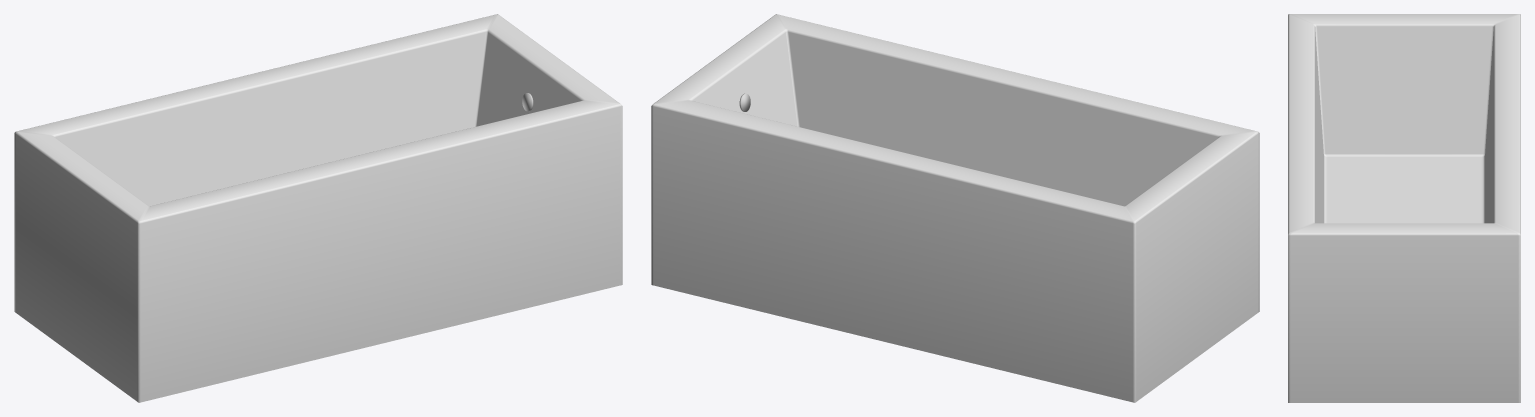
File: BathTub02.fbx
The picture shows the model from 3 angles, left to right: view 1: azimuth 30°, elevation 25°; view 2: azimuth 150°, elevation 25°; view 3: azimuth 270°, elevation 25°; orthographic projection. The views are drawn at different scales.
Parts seen in each view (by area): view 1: Bathtub02; view 2: Bathtub02; view 3: Bathtub02.
Boxes of the visible parts, x1=… form: Bathtub02: x1=14, y1=14, x2=622, y2=402; Bathtub02: x1=651, y1=14, x2=1259, y2=402; Bathtub02: x1=1288, y1=14, x2=1520, y2=402.
Size of the model in its own units: 133 by 47.65 by 59.5.
